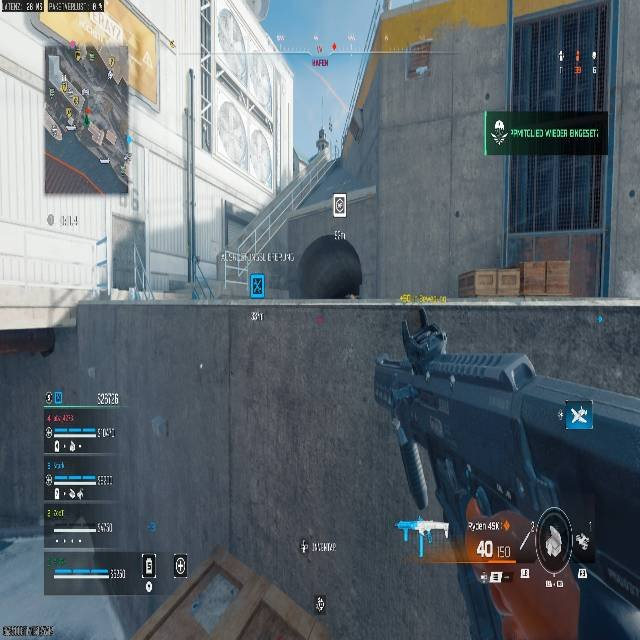head: (297, 235, 362, 300)
player: (404, 311, 445, 379), (313, 127, 330, 158)
